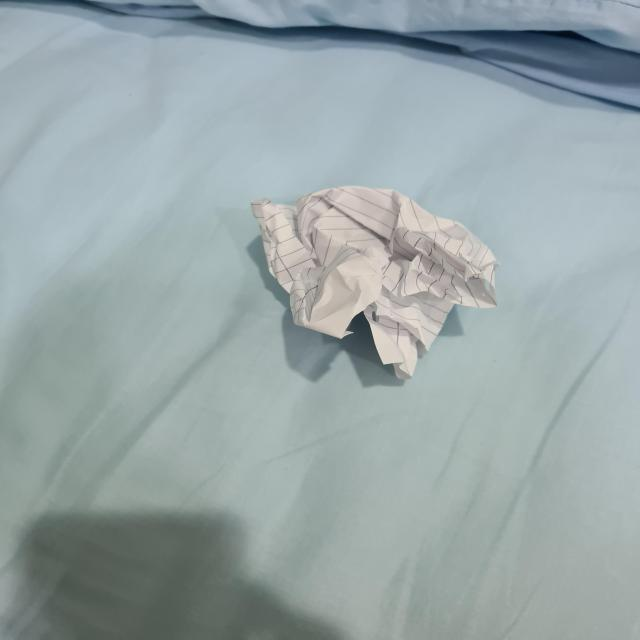trash: (258, 181, 506, 369)
